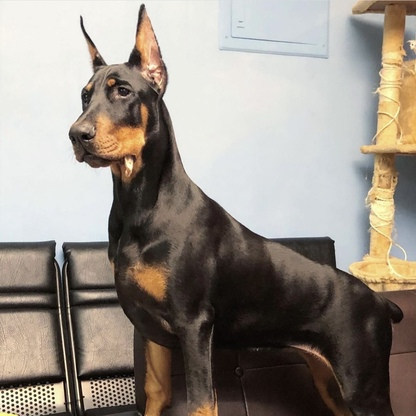doberman: (67, 4, 405, 415)
